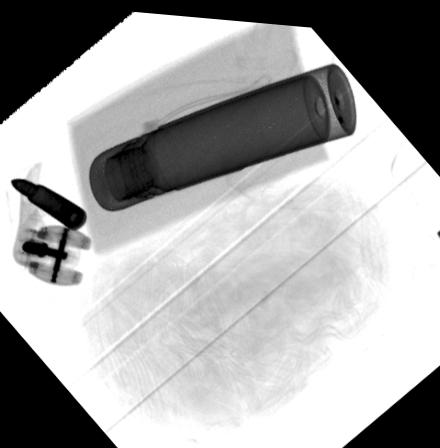Bullet: (8, 176, 88, 230)
